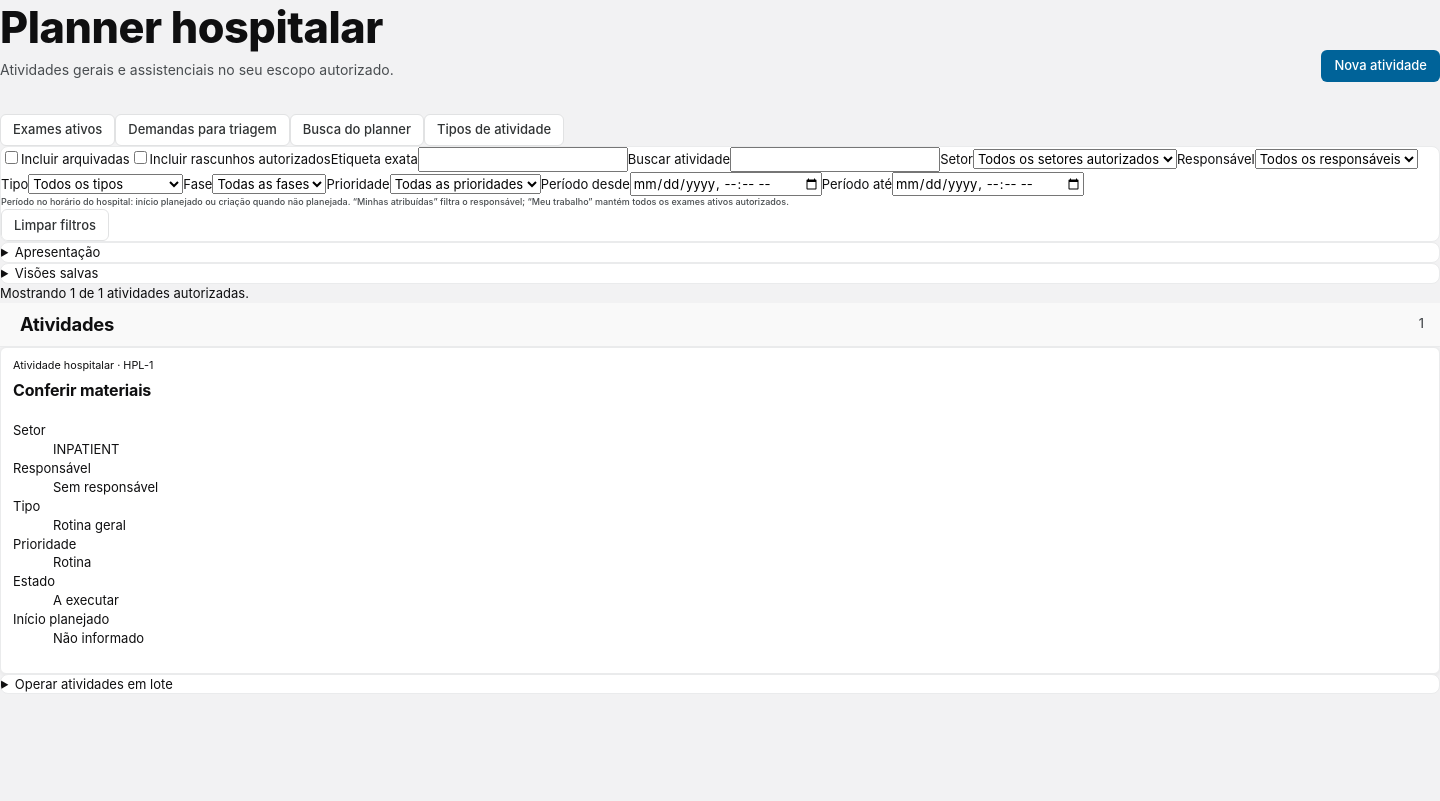
Test: uses genuine table and board surfaces and keeps properties under the current identity
Expected: the link "Conferir materiais" is shown, [13, 380, 151, 400]
Click the heading "Apresentação" at (58, 252), box [15, 244, 100, 260]
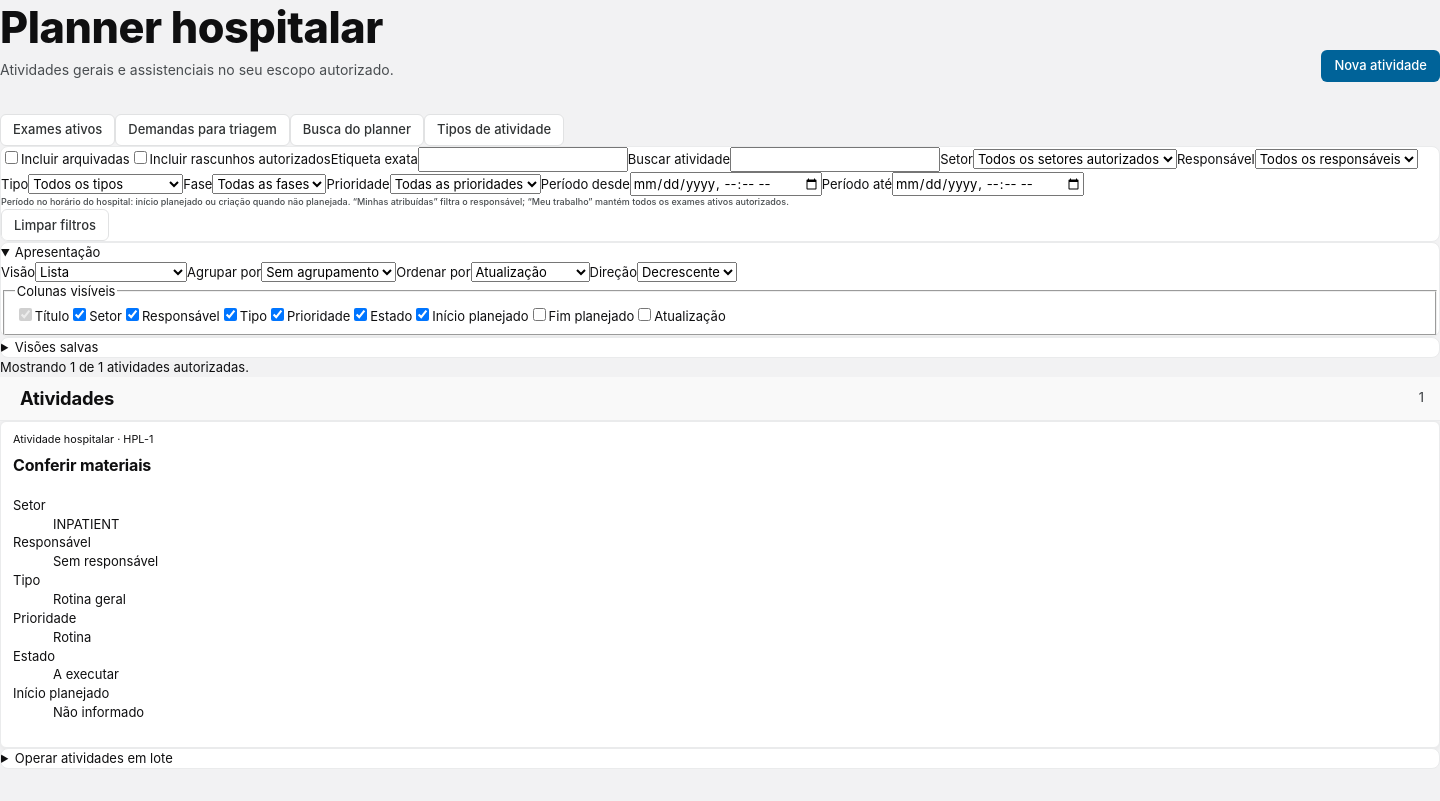
Select "Planilha" in the dropdown labelled "Visão" at (111, 272), box [35, 262, 187, 282]
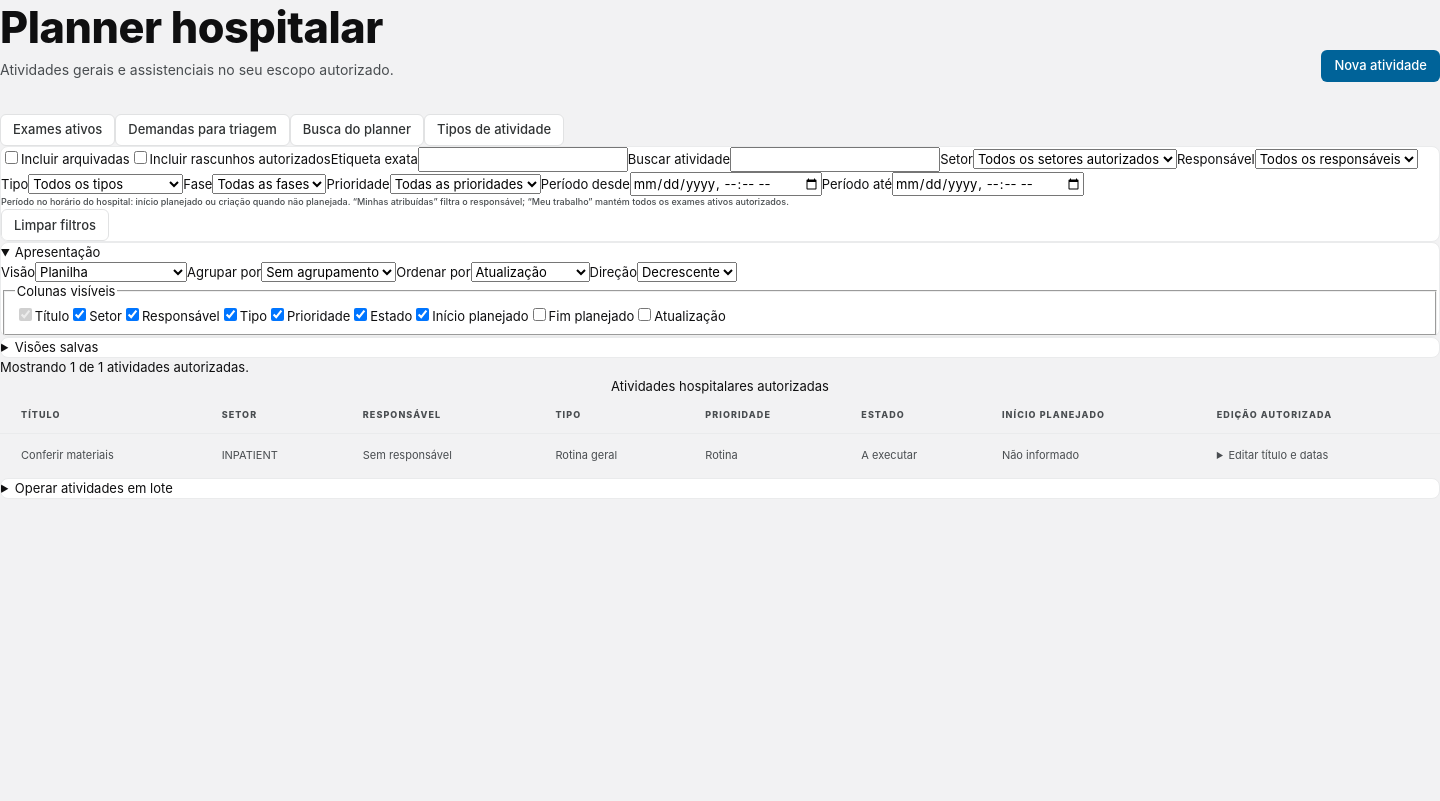
Expected: the table "Atividades hospitalares autorizadas" is shown, [0, 377, 1439, 478]
Select "Quadro" in the dropdown labelled "Visão" at (111, 272), box [35, 262, 187, 282]
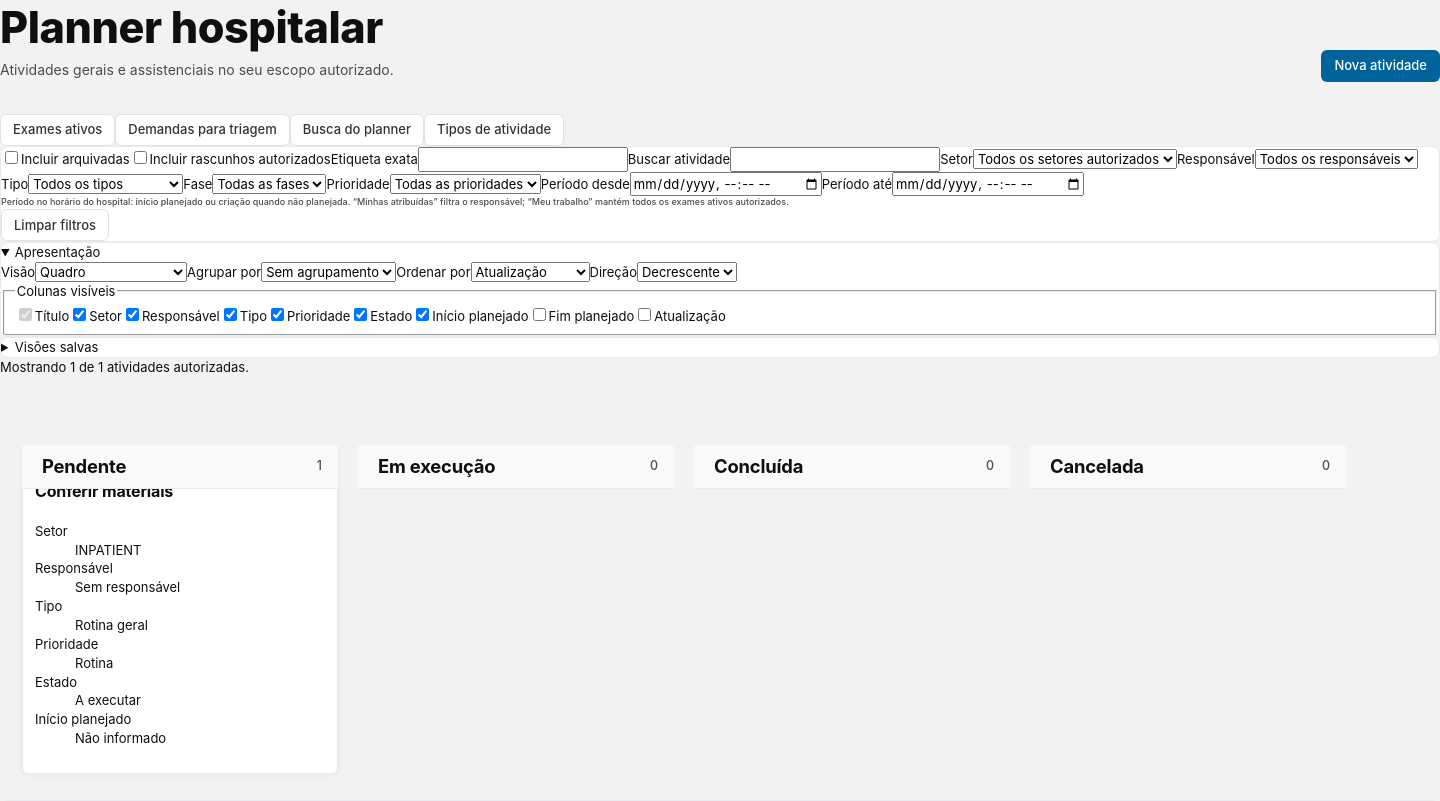
Expected: the element "Pendente" shows "Conferir materiais", [35, 481, 173, 501]
